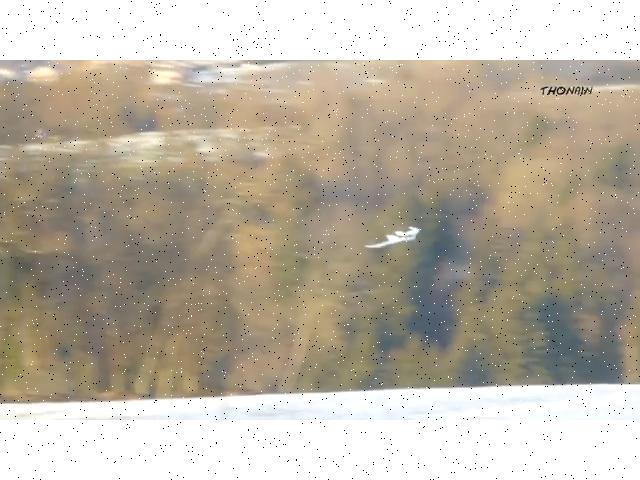Anti-Drone: (356, 212, 436, 256)
